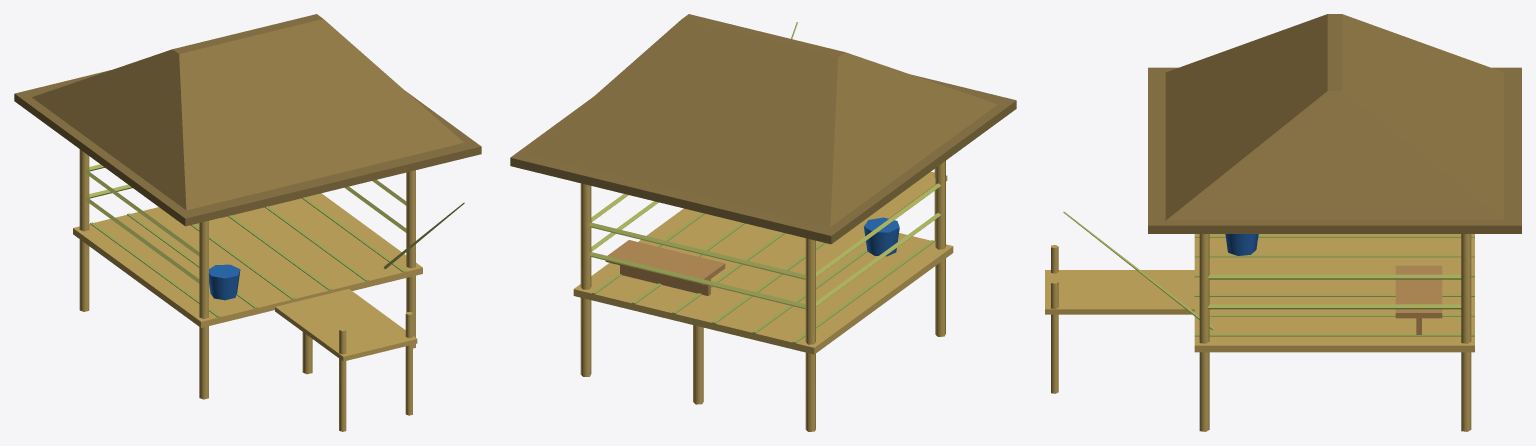
Rendered from saung_pancing.glb.
3 views of the same model, side by side, from view 1: azimuth 30°, elevation 25°; view 2: azimuth 150°, elevation 25°; view 3: azimuth 270°, elevation 25° (orthographic). The views are drawn at different scales.
Visible parts, largest first — view 1: body; view 2: body; view 3: body.
Boxes of the visible parts, <box> form: body: <box>14,14,481,431</box>; body: <box>510,14,1016,431</box>; body: <box>1045,14,1521,431</box>.
Bounding box in the file's own units: 4 × 3.8 × 5.1.
1 material, 1 textured.
